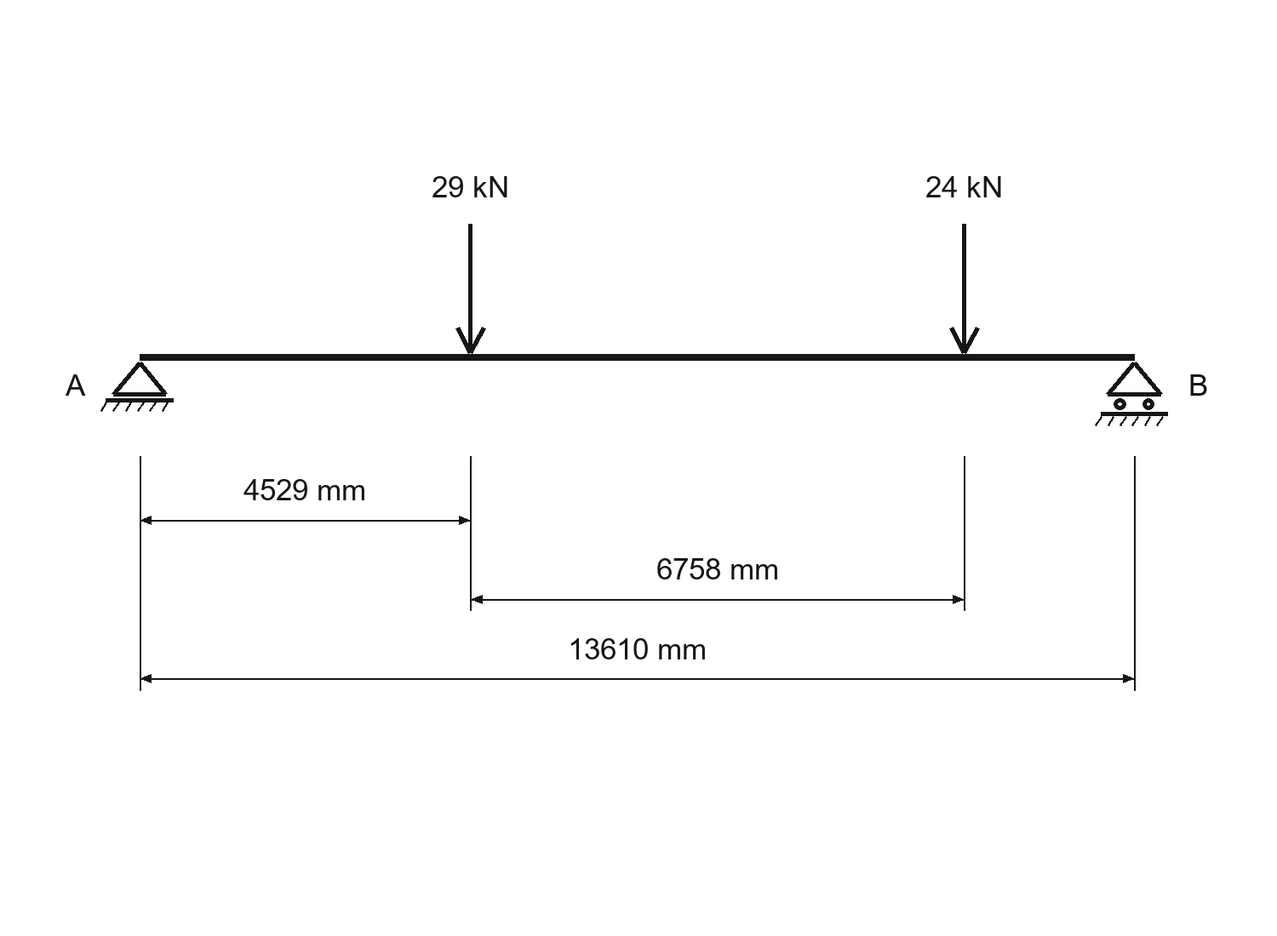pin_support: (100, 362, 174, 412)
point_load: (455, 224, 486, 354), (949, 224, 980, 354)
roller_support: (1095, 362, 1168, 426)
